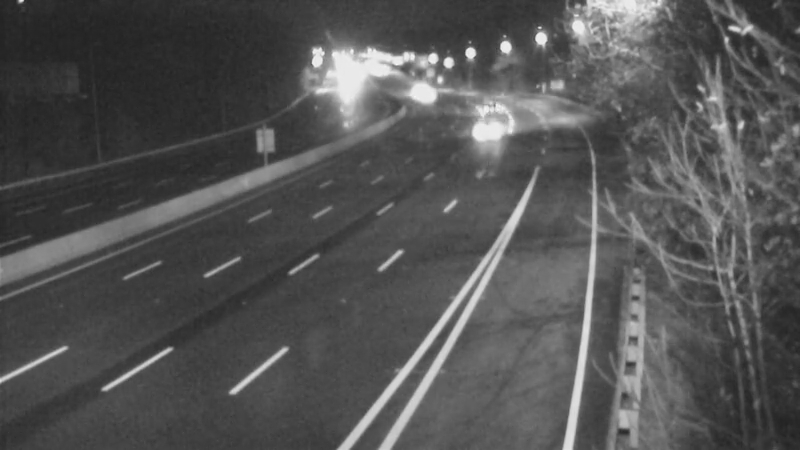vehicle: (392, 66, 442, 116), (405, 71, 455, 121), (460, 82, 510, 132), (455, 106, 505, 156)
